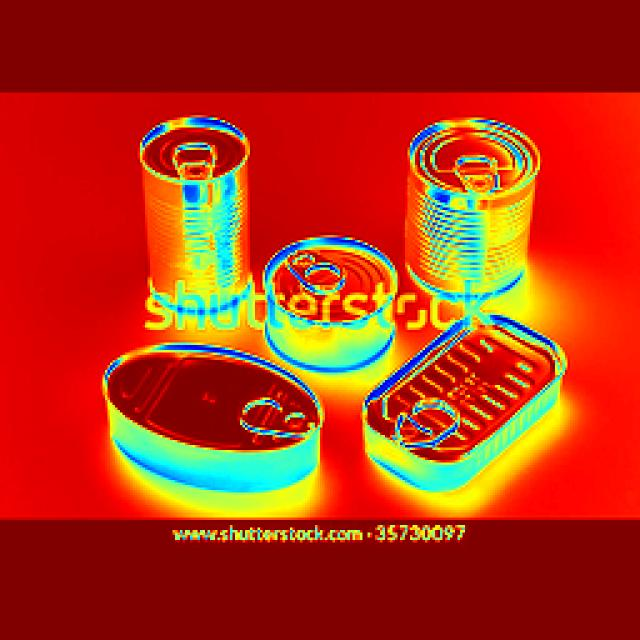Aluminium Food Cans: (128, 104, 259, 312), (137, 357, 319, 492), (388, 306, 528, 476), (255, 200, 390, 355), (411, 125, 514, 282)
